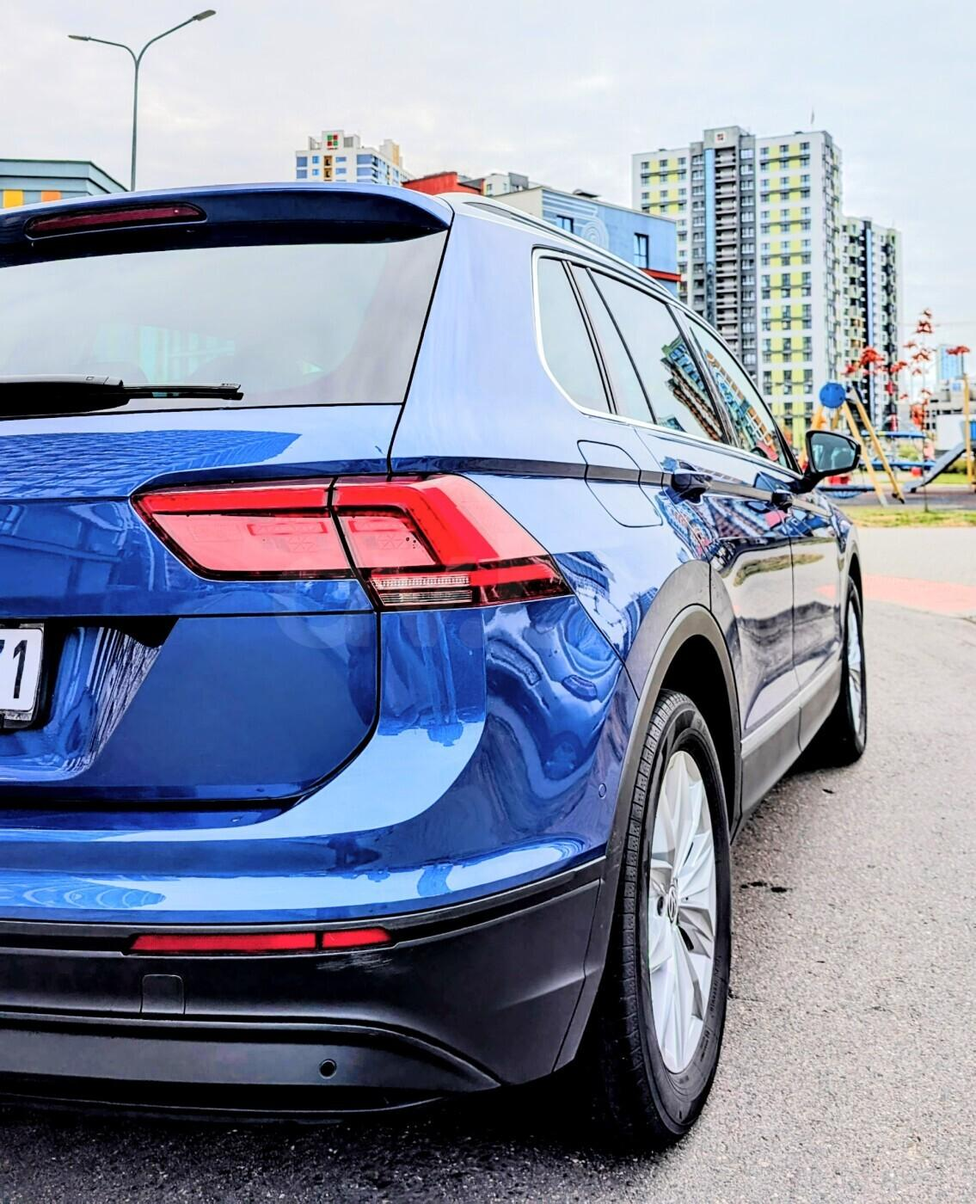Tiguan_2016-2021: (0, 175, 872, 1175)
